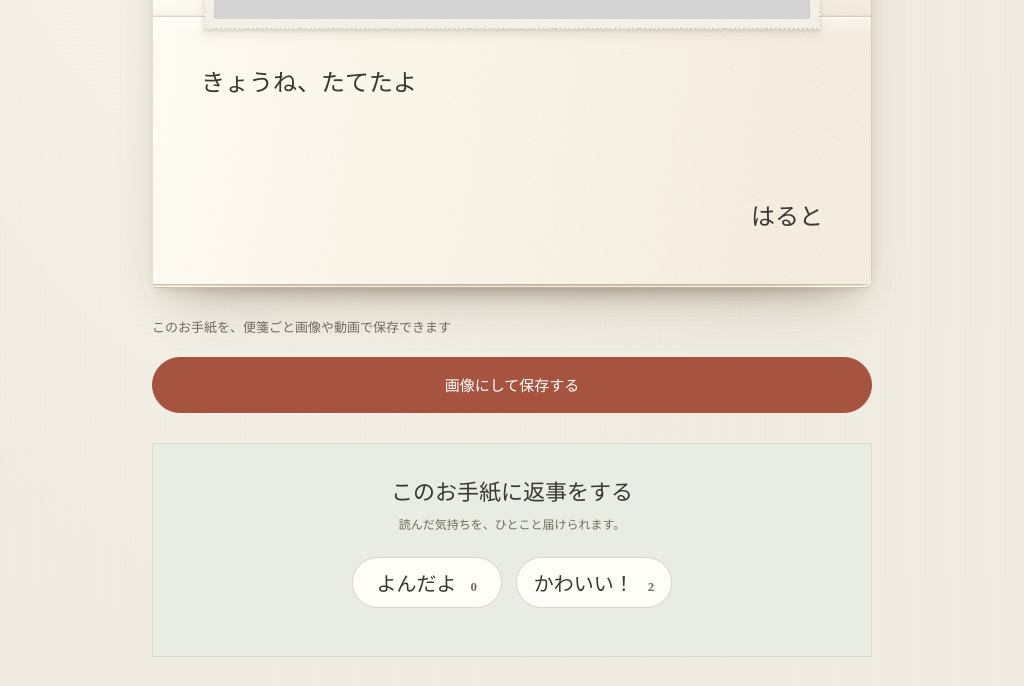
LetterPage › lets recipients prepare the complete paper as an image
This screenshot has width=1024, height=686.
(page scrolled)
Step 1. Click the button "画像にして保存する" → (512, 385), box [152,357,872,413]
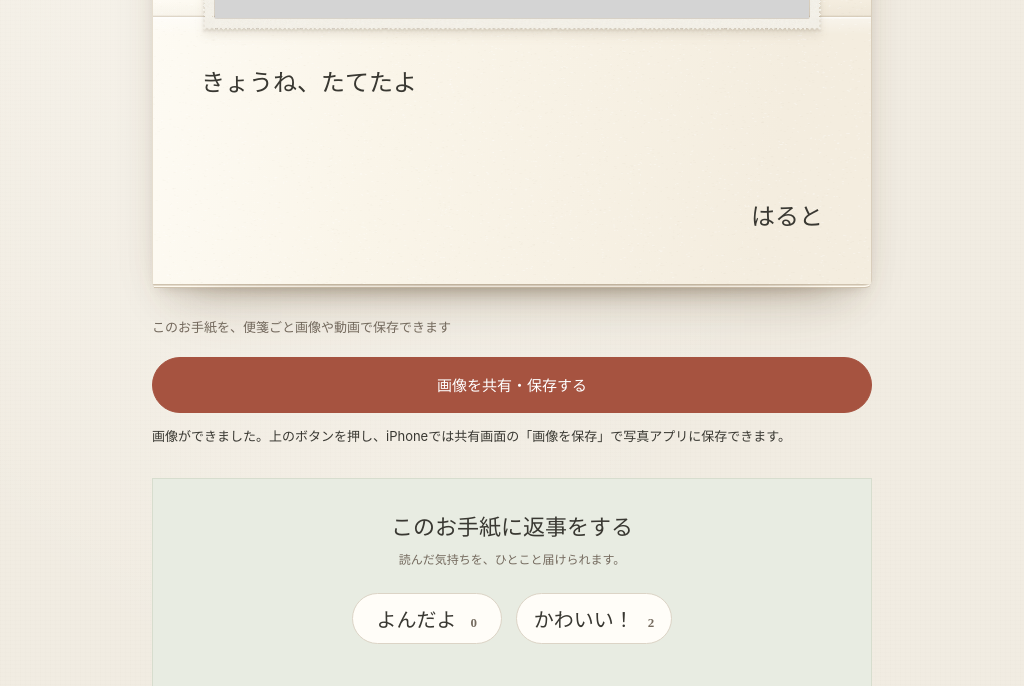
Step 2. Click the button "画像を共有・保存する" → (512, 385), box [152,357,872,413]
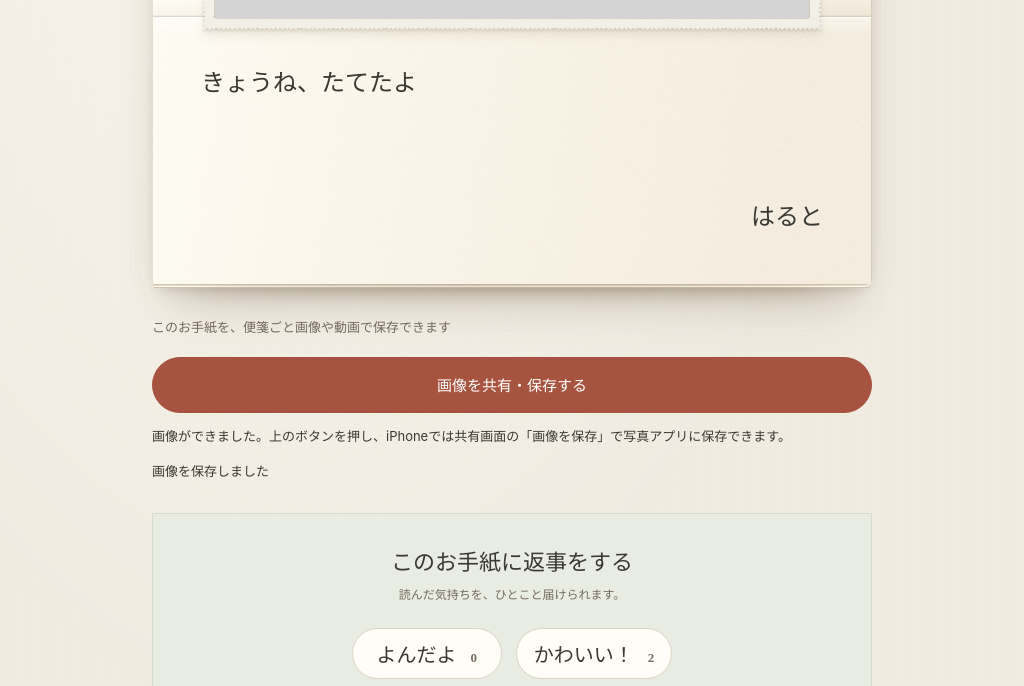
Now the text "画像を保存しました" is shown, box [152,463,269,479]
